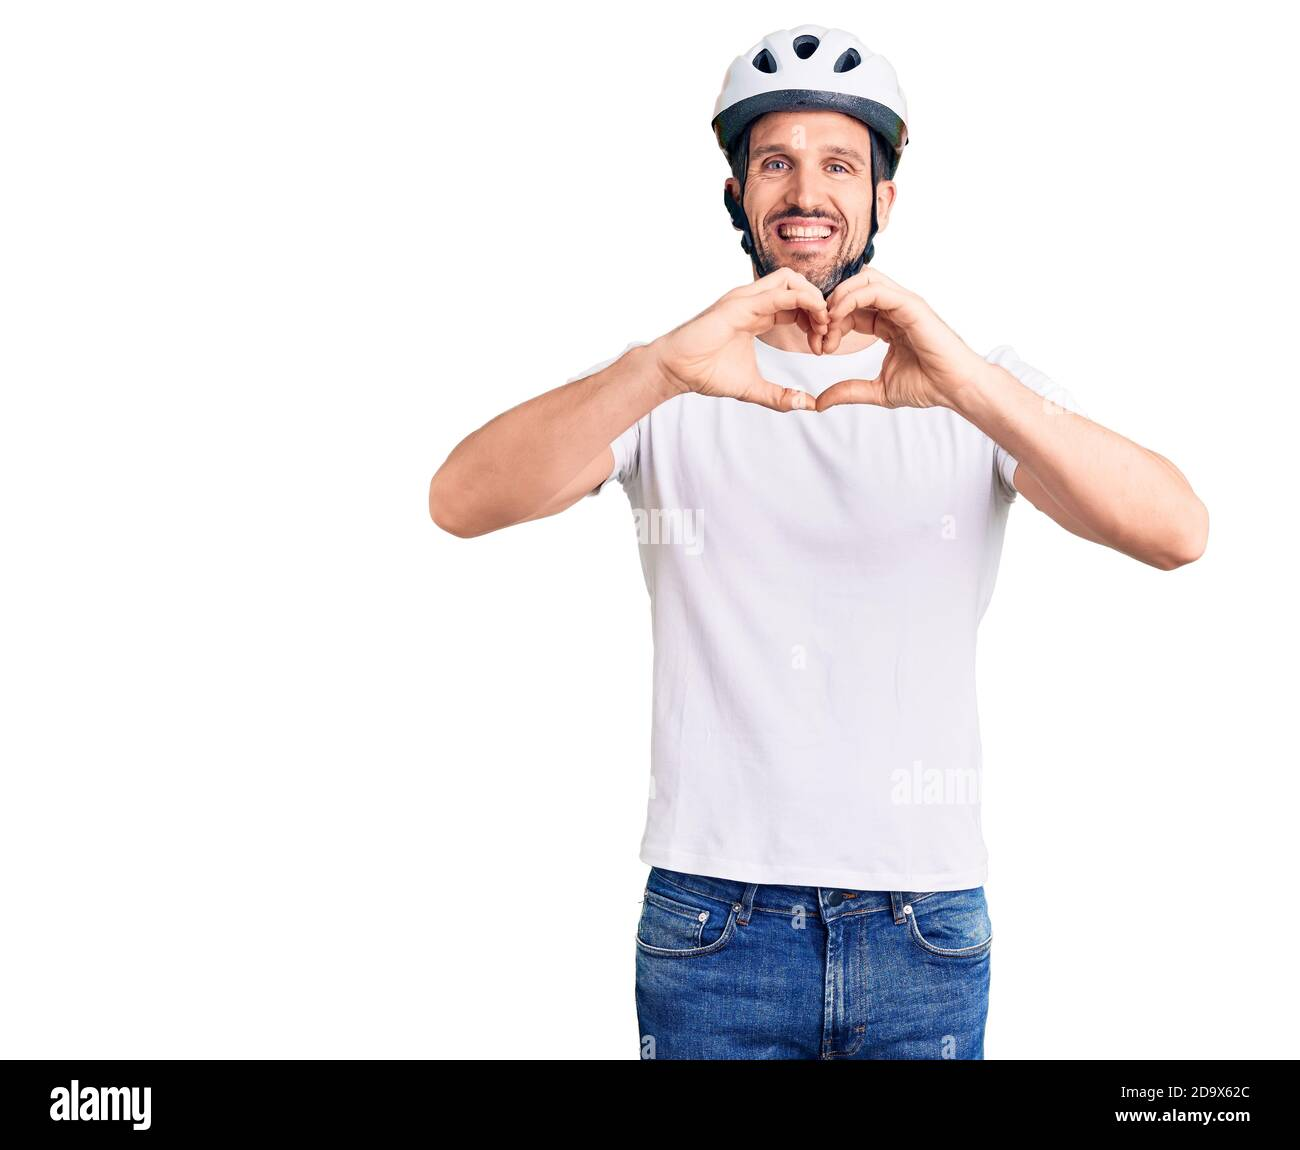helmet: (711, 26, 909, 302)
